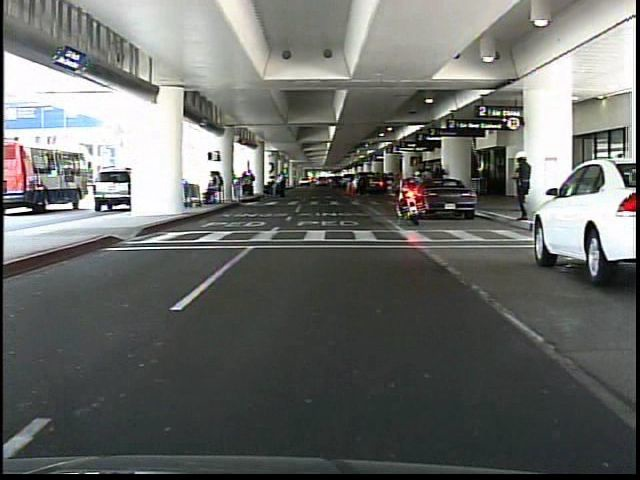person: (509, 147, 534, 225)
